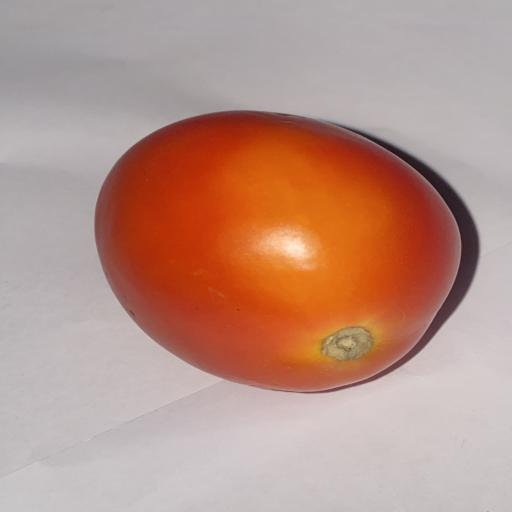ripe: (95, 111, 460, 391)
